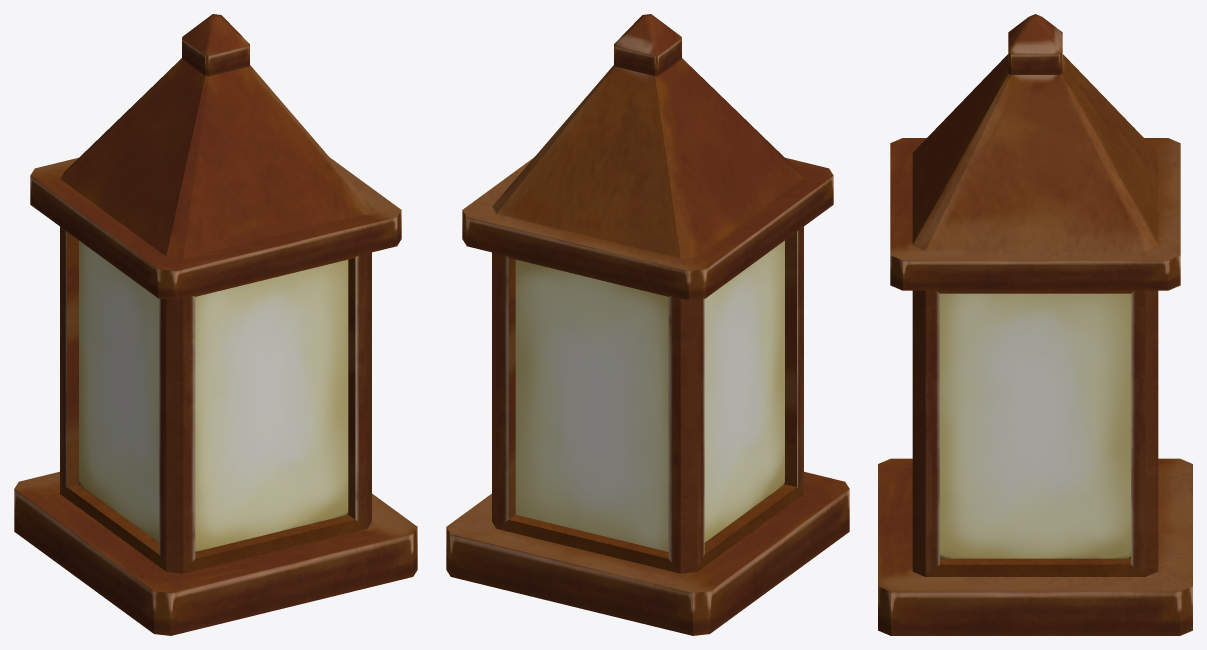
File: Lamp.fbx
The picture shows the model from 3 angles, left to right: view 1: azimuth 30°, elevation 25°; view 2: azimuth 150°, elevation 25°; view 3: azimuth 270°, elevation 25°; orthographic projection. The views are drawn at different scales.
Visible parts, largest first — view 1: lampiao; view 2: lampiao; view 3: lampiao.
Boxes of the visible parts, x1=… form: lampiao: x1=14, y1=14, x2=417, y2=635; lampiao: x1=446, y1=14, x2=849, y2=635; lampiao: x1=878, y1=14, x2=1192, y2=635.
Bounding box in the file's own units: 1.28 × 2.48 × 1.28.
1 material, 1 textured.
